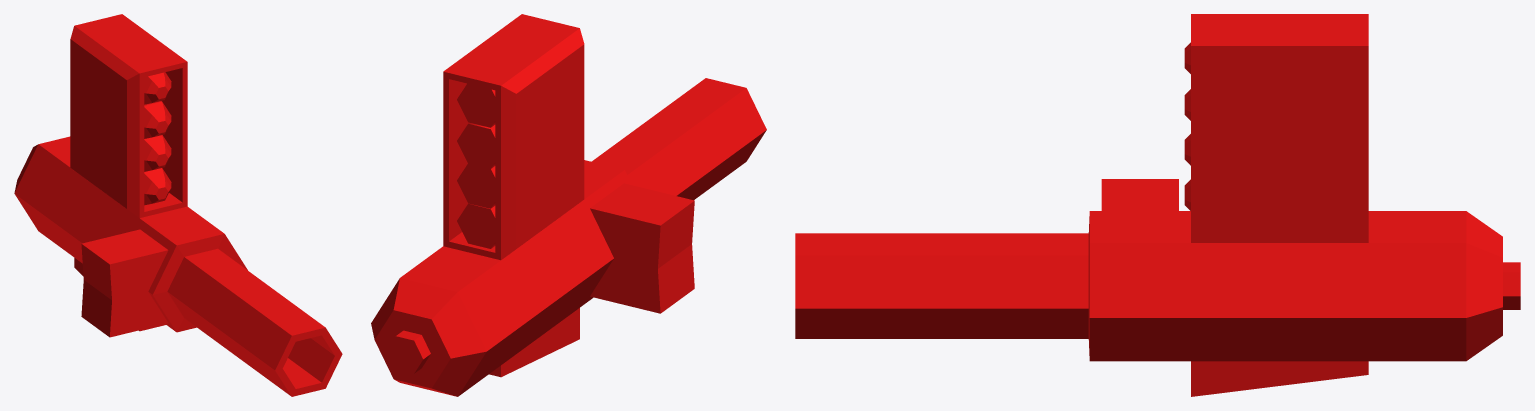
File: GrenadeLauncherA.FBX
3 renders of one model, left to right at view 1: azimuth 30°, elevation 25°; view 2: azimuth 150°, elevation 25°; view 3: azimuth 270°, elevation 25°, orthographic. The views are drawn at different scales.
Parts seen in each view (by area): view 1: GrenadeLauncherA; view 2: GrenadeLauncherA; view 3: GrenadeLauncherA.
Boxes of the visible parts, x1,y1,x2,y2 form: GrenadeLauncherA: (14, 14, 342, 396); GrenadeLauncherA: (371, 14, 766, 396); GrenadeLauncherA: (795, 14, 1520, 396).
Size of the model in its own units: 107 by 366 by 196.
